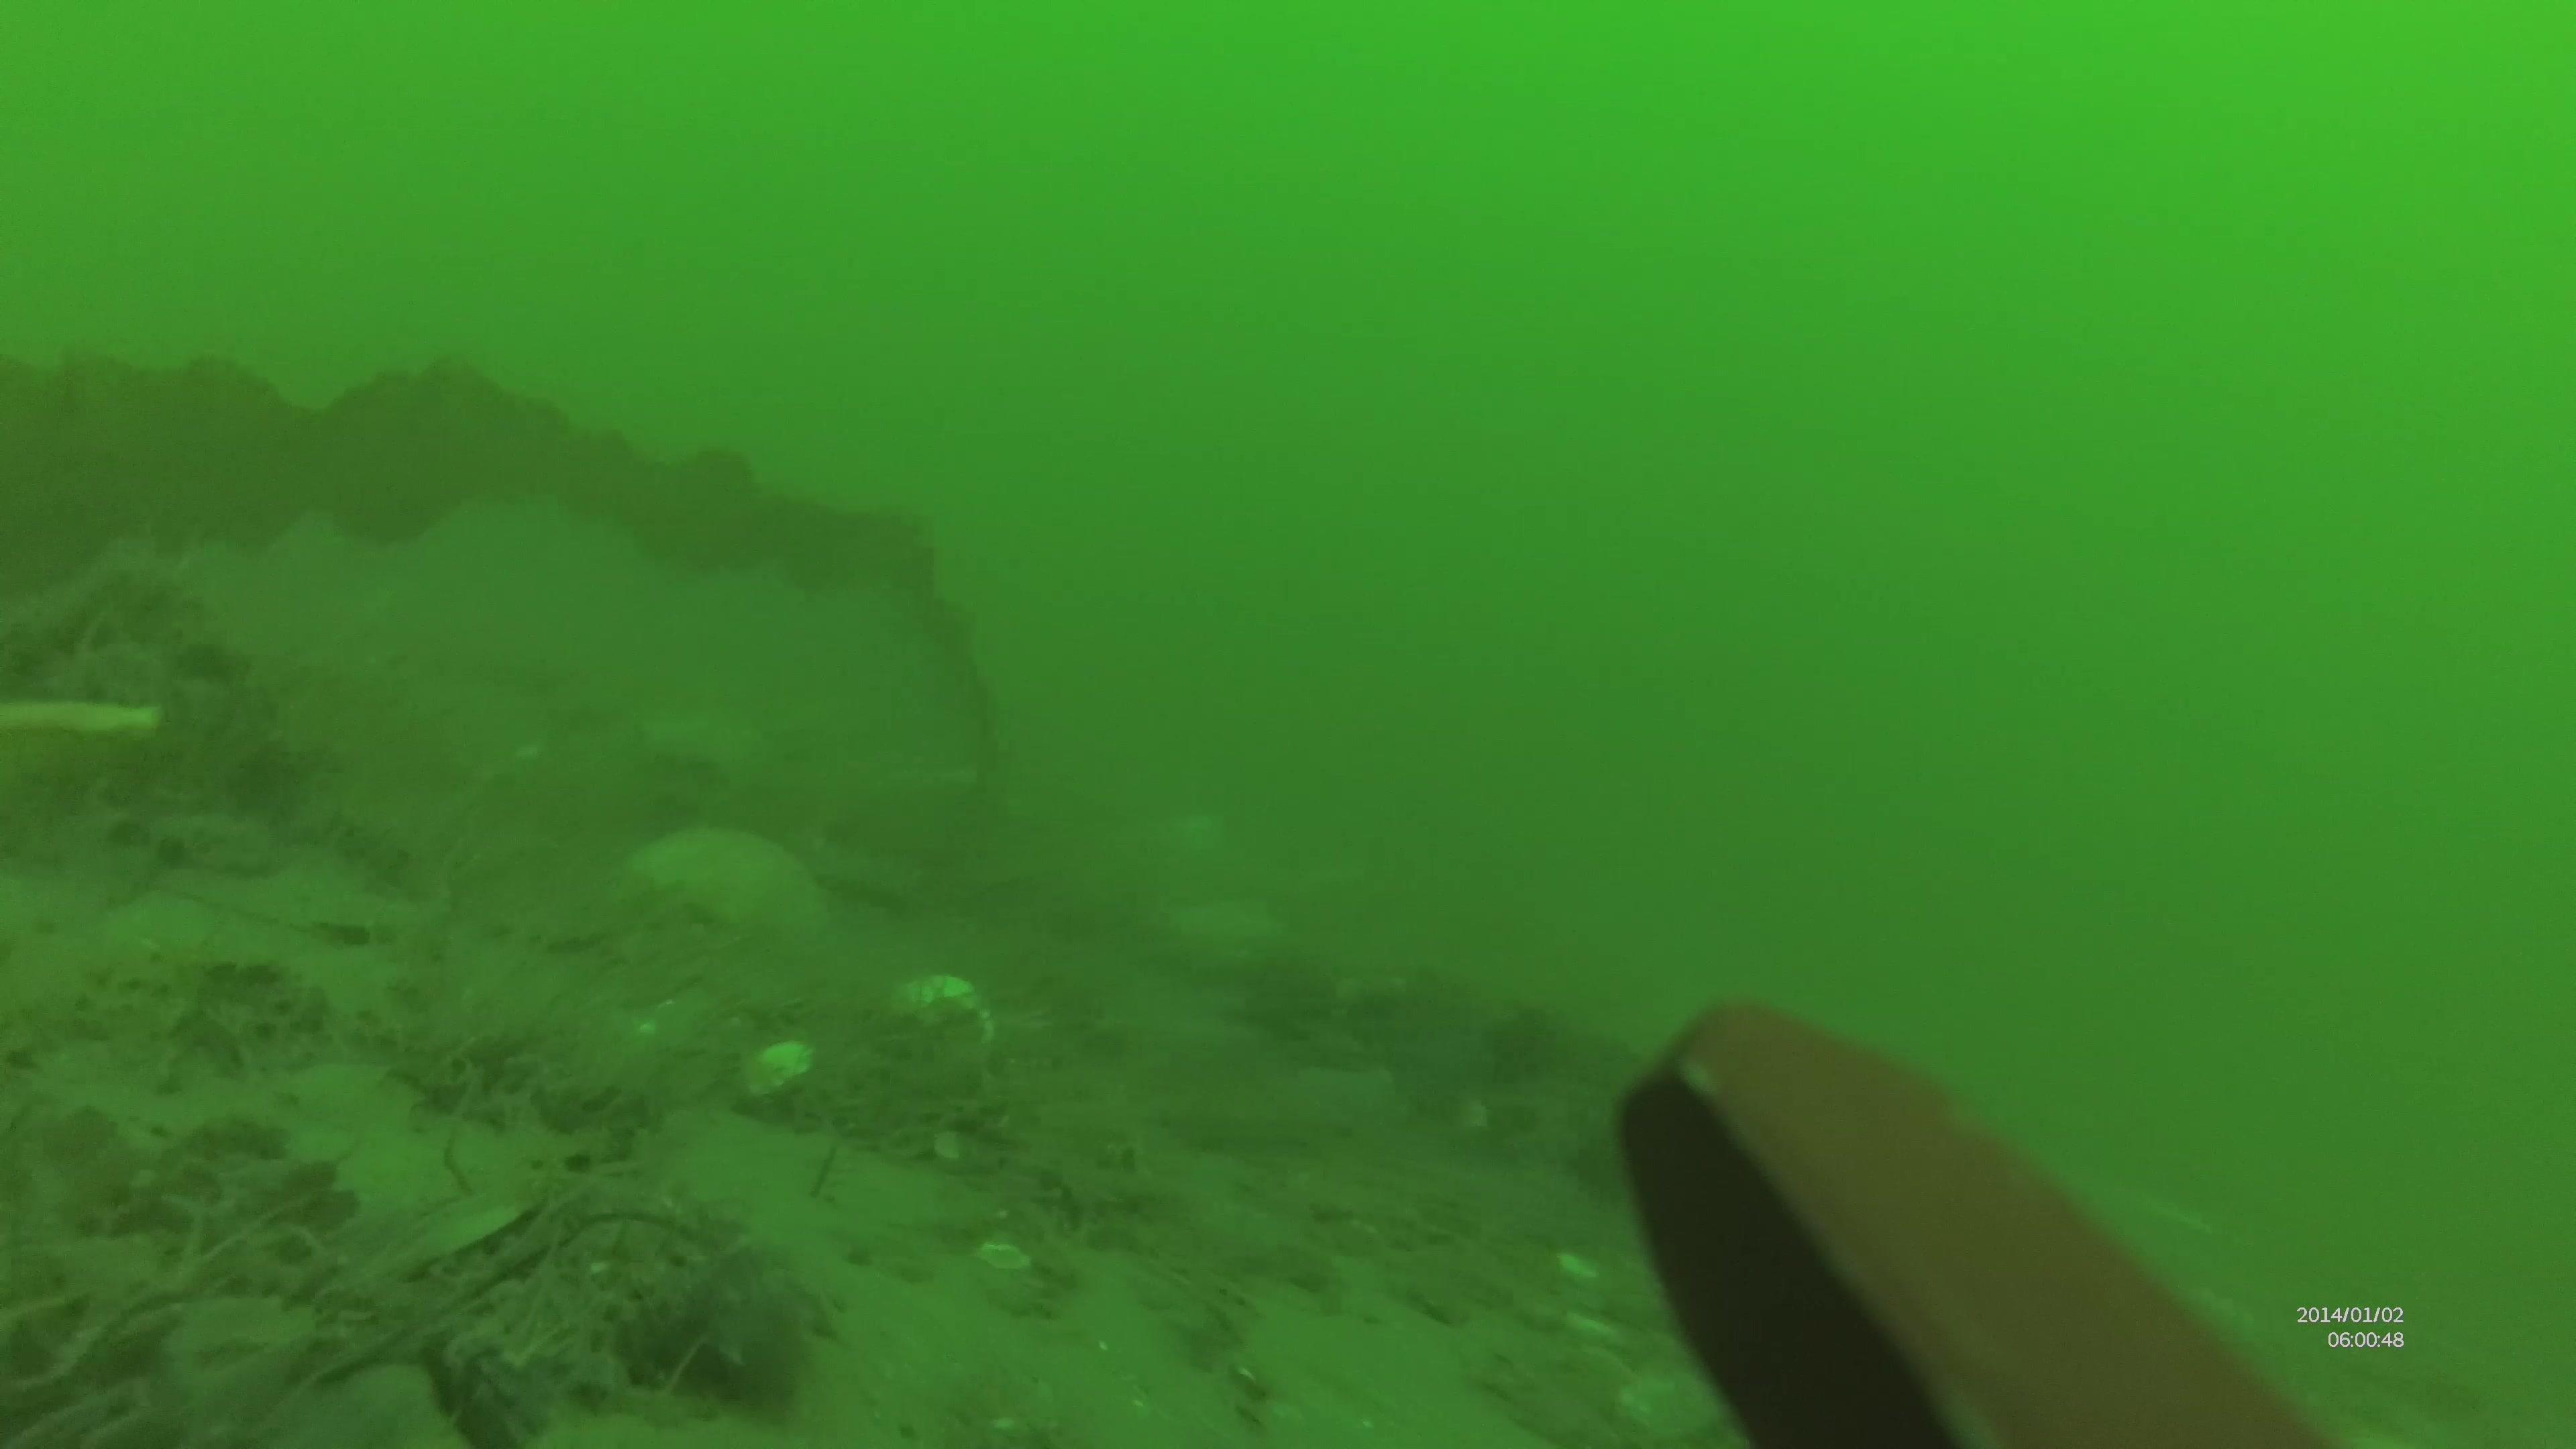starfish: (621, 823, 817, 941)
